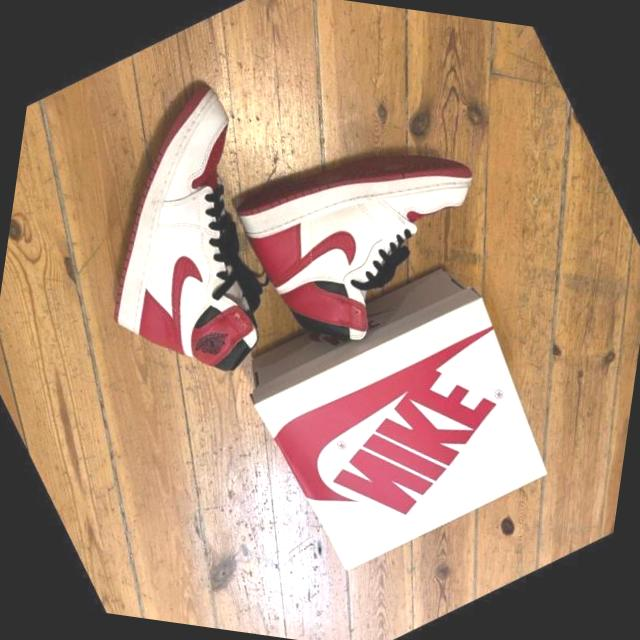nike_original_jordan: (4, 53, 367, 434), (208, 72, 541, 394)
